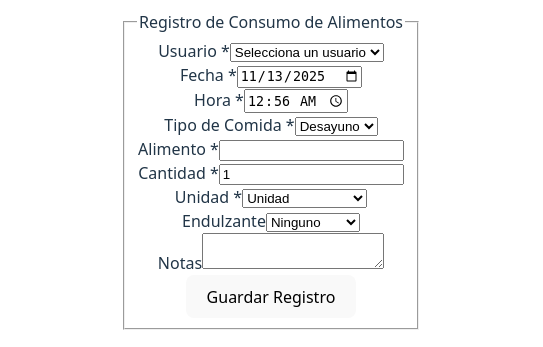
Test: RegistrationForm - Validation › shows validation error for invalid amount (negative)
Replace the text in the number field labelled "Cantidad *" with "-5" at (311, 174), box [219, 164, 404, 185]
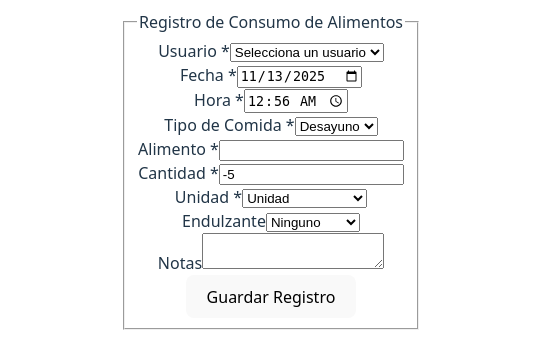
Click the button "Guardar Registro" at (271, 297), box [186, 275, 356, 318]
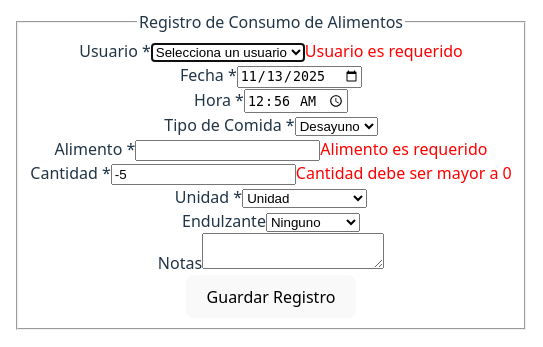
Now the text "Cantidad debe ser mayor a 0" is shown, box [296, 162, 512, 184]
